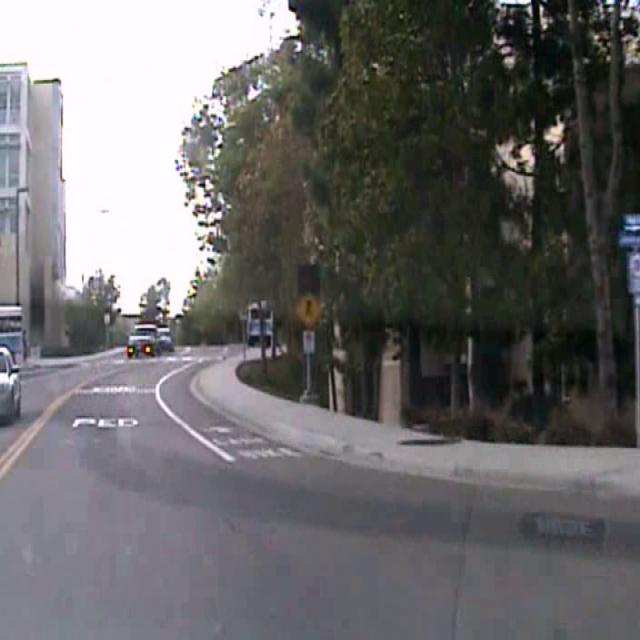pedestrianCrossing: (294, 289, 324, 328)
